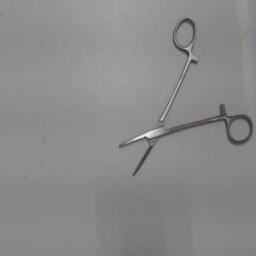Mayo Needle Holder: (113, 14, 255, 182)
